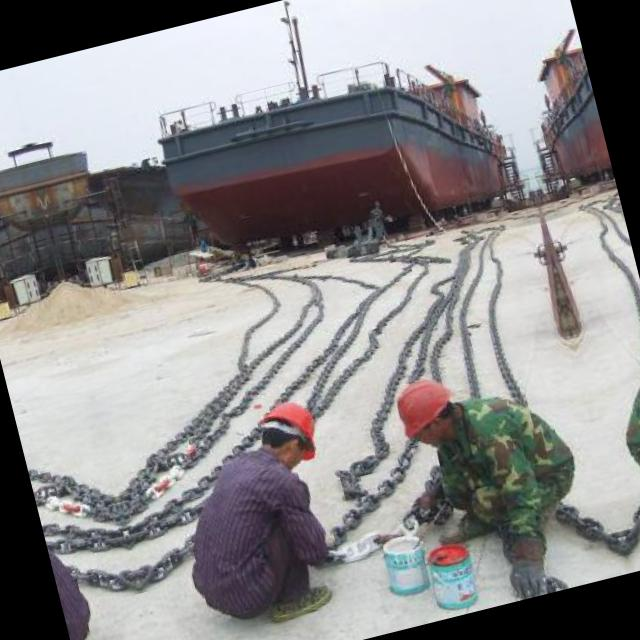helmet: (380, 366, 471, 460), (245, 392, 324, 472)
